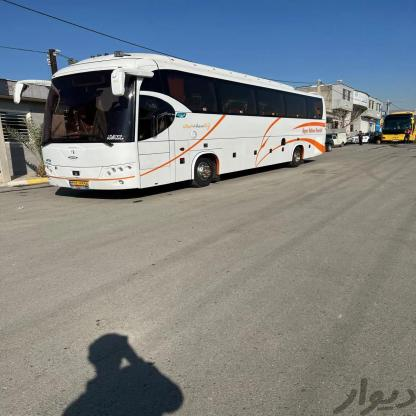Bus: (20, 49, 340, 201)
